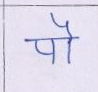o_matra: (62, 20, 76, 63)
